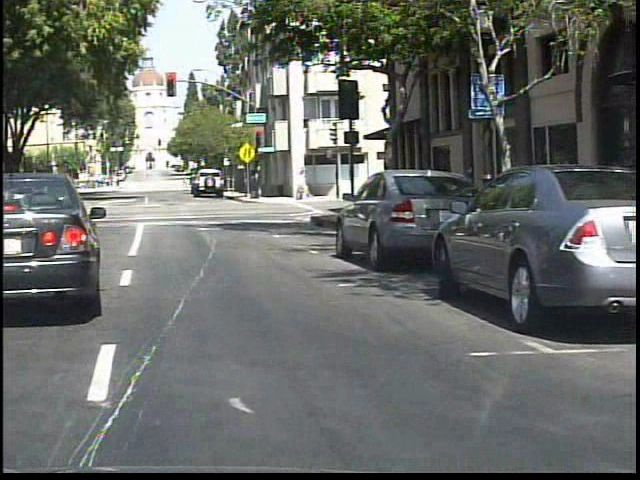person: (13, 173, 34, 210), (2, 175, 20, 212)
